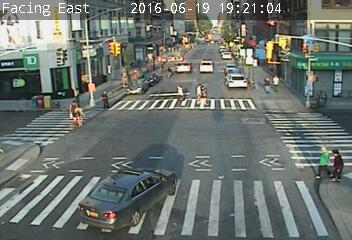neg: (99, 61, 109, 75), (126, 44, 136, 58), (199, 42, 208, 54), (188, 34, 194, 42), (184, 20, 187, 24)
pos: (310, 146, 336, 181), (329, 148, 350, 176), (97, 87, 115, 110), (271, 74, 287, 95), (259, 76, 274, 96)
